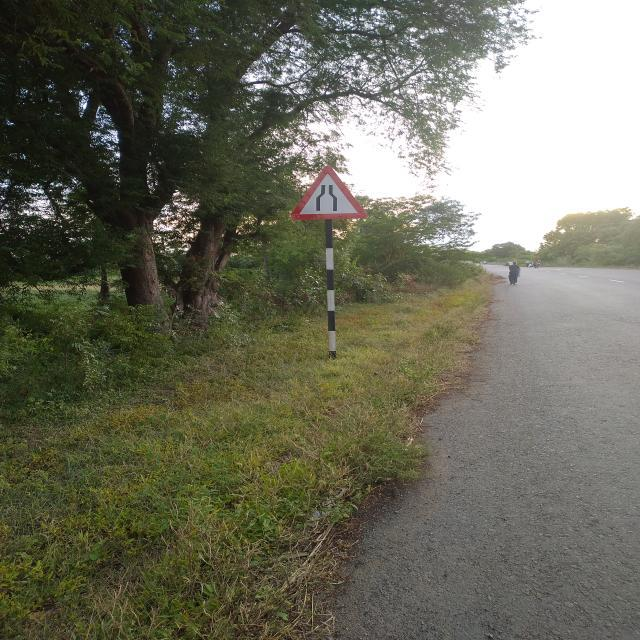narrow road ahead: (291, 165, 364, 221)
